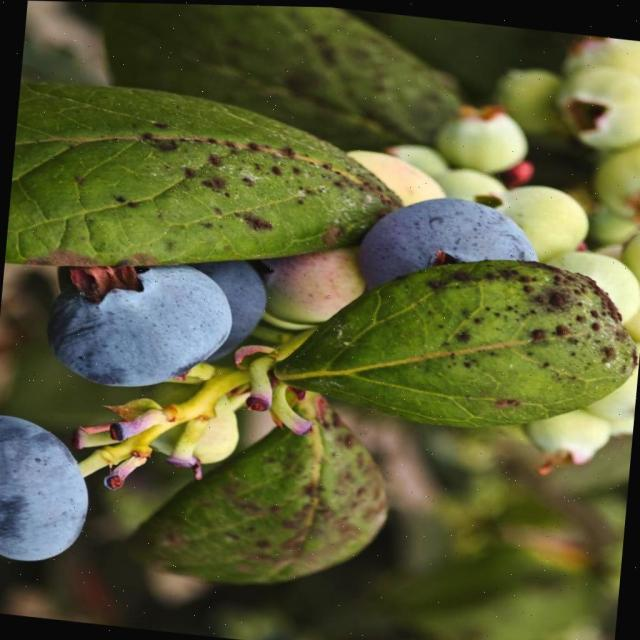RipeBlueBerry: (49, 253, 232, 393), (0, 412, 92, 567)
